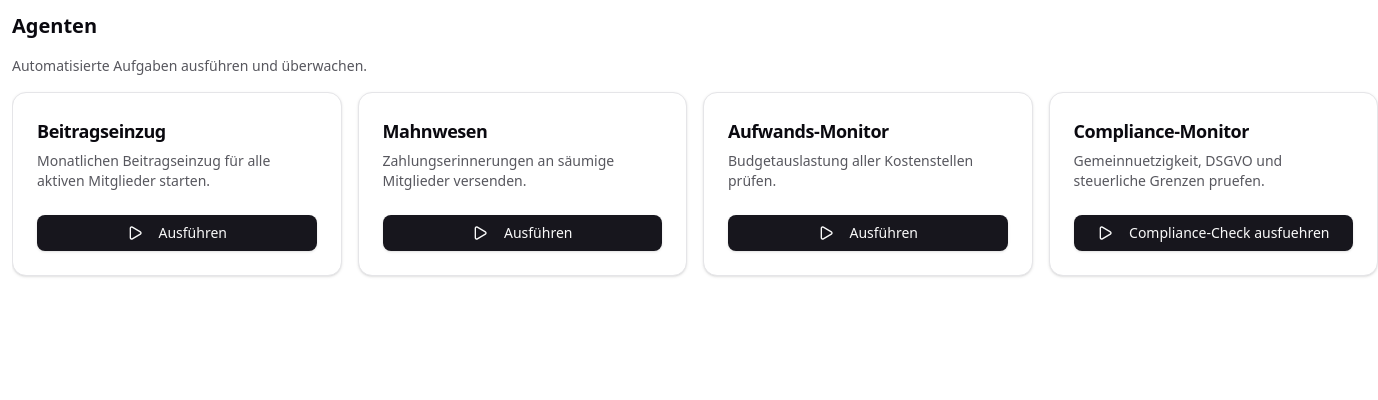
Test: AgentDashboard › handles Beitragseinzug execution success and shows result
Click the button with test id "run-beitragseinzug" at (177, 233), box [37,215,316,251]
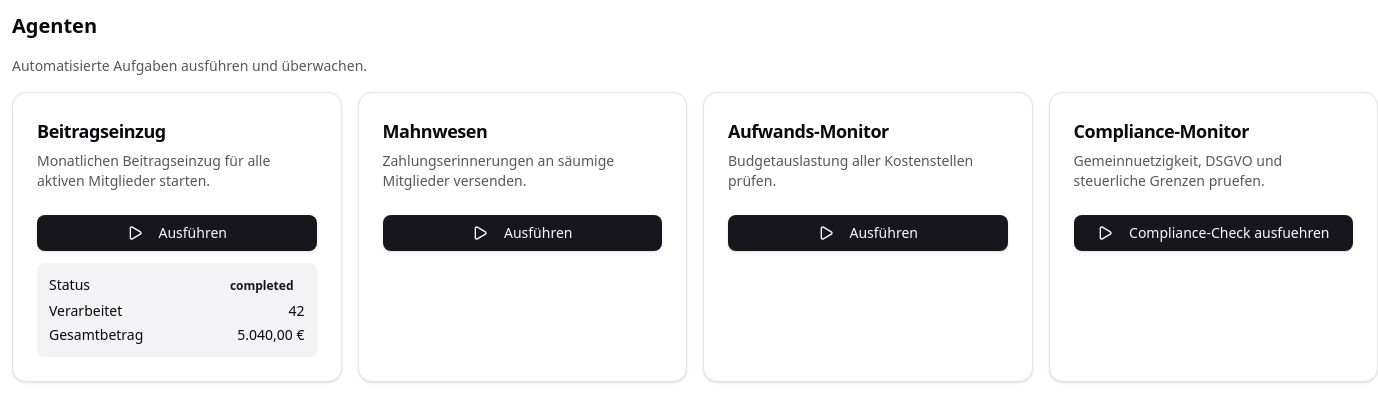
Result: the text "42" is shown at [288,301,304,321]
